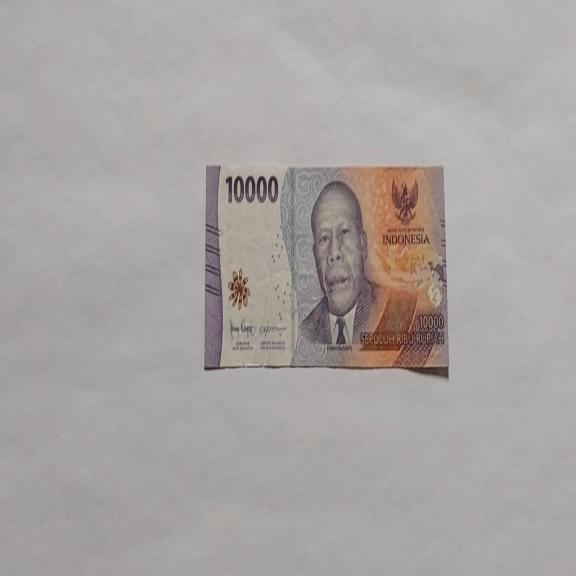Kertas: (204, 162, 449, 372), (224, 172, 279, 205)
